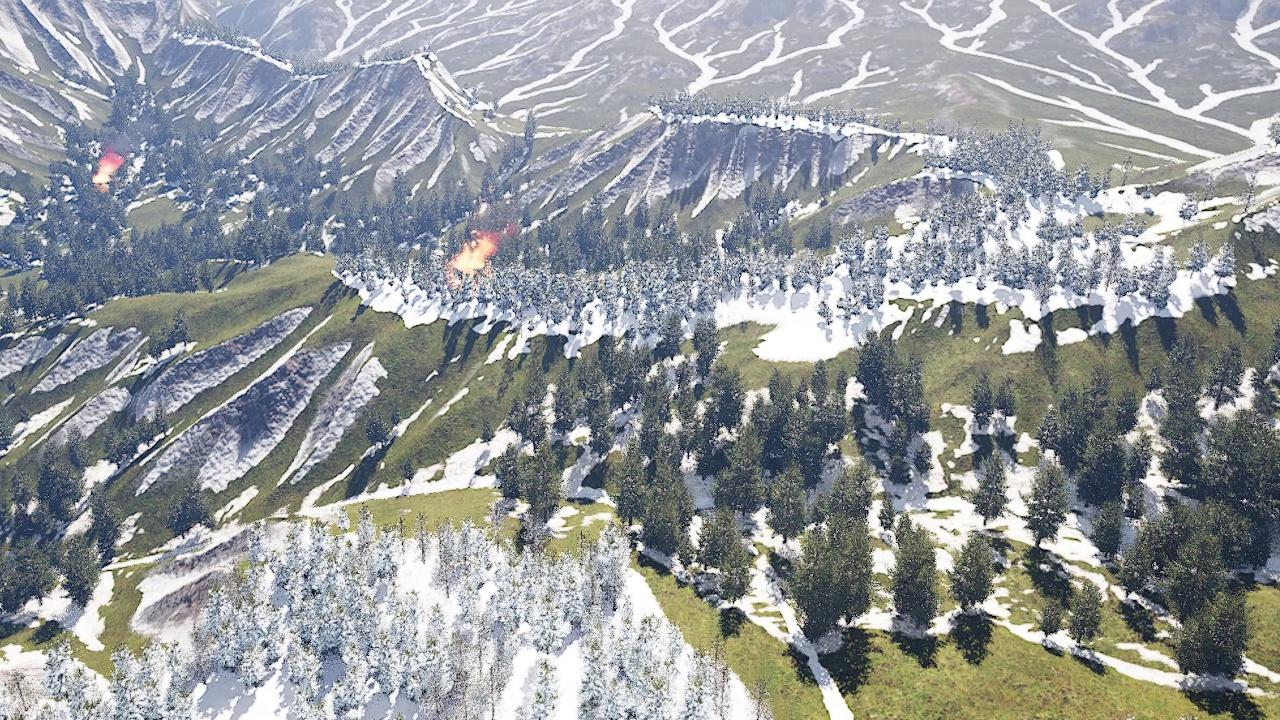fire: (450, 236, 496, 273), (92, 154, 121, 185)
smoke: (98, 123, 151, 164), (472, 205, 520, 243)
